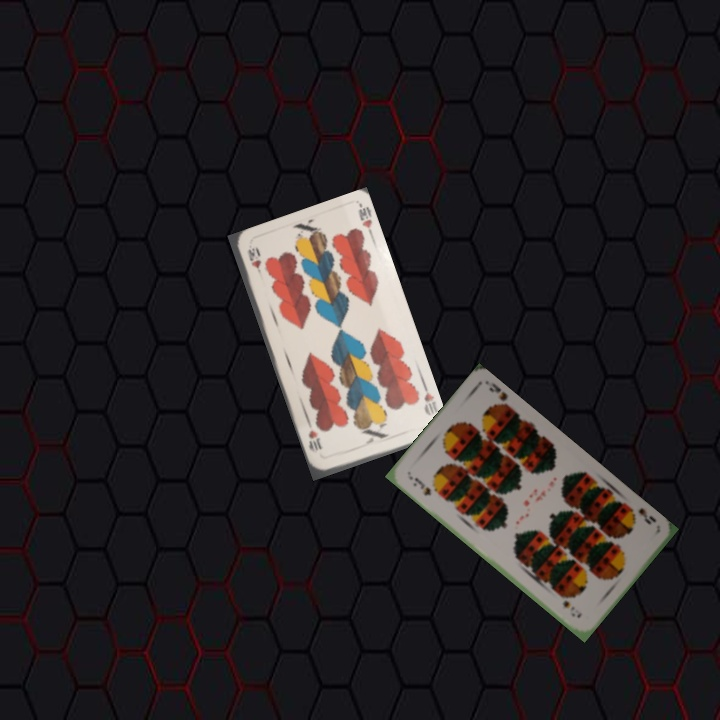H10: (243, 244, 266, 282), (419, 381, 440, 418)
S9: (624, 502, 659, 527), (404, 472, 433, 498)
